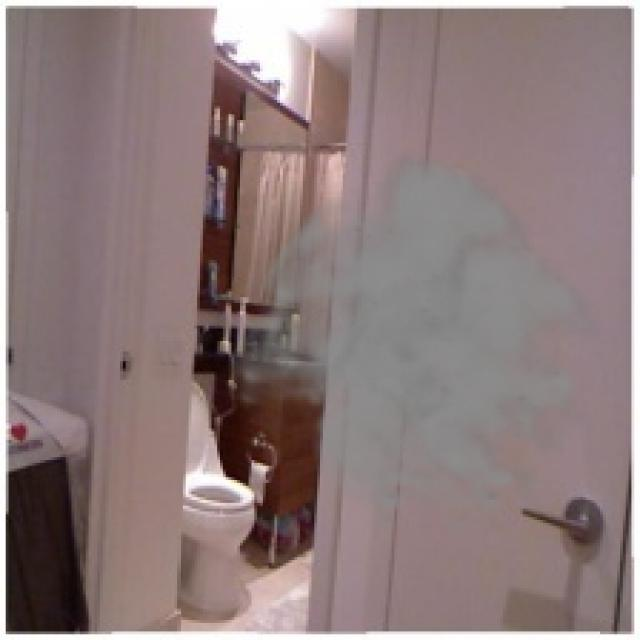smoke: (223, 149, 614, 537)
